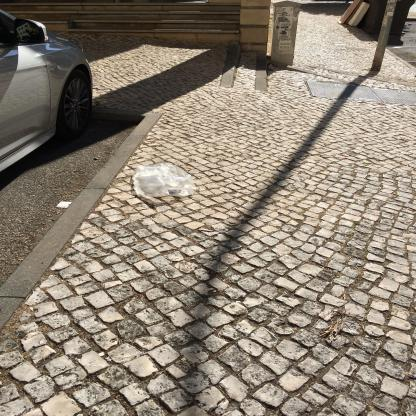plastik: (132, 163, 198, 200)
